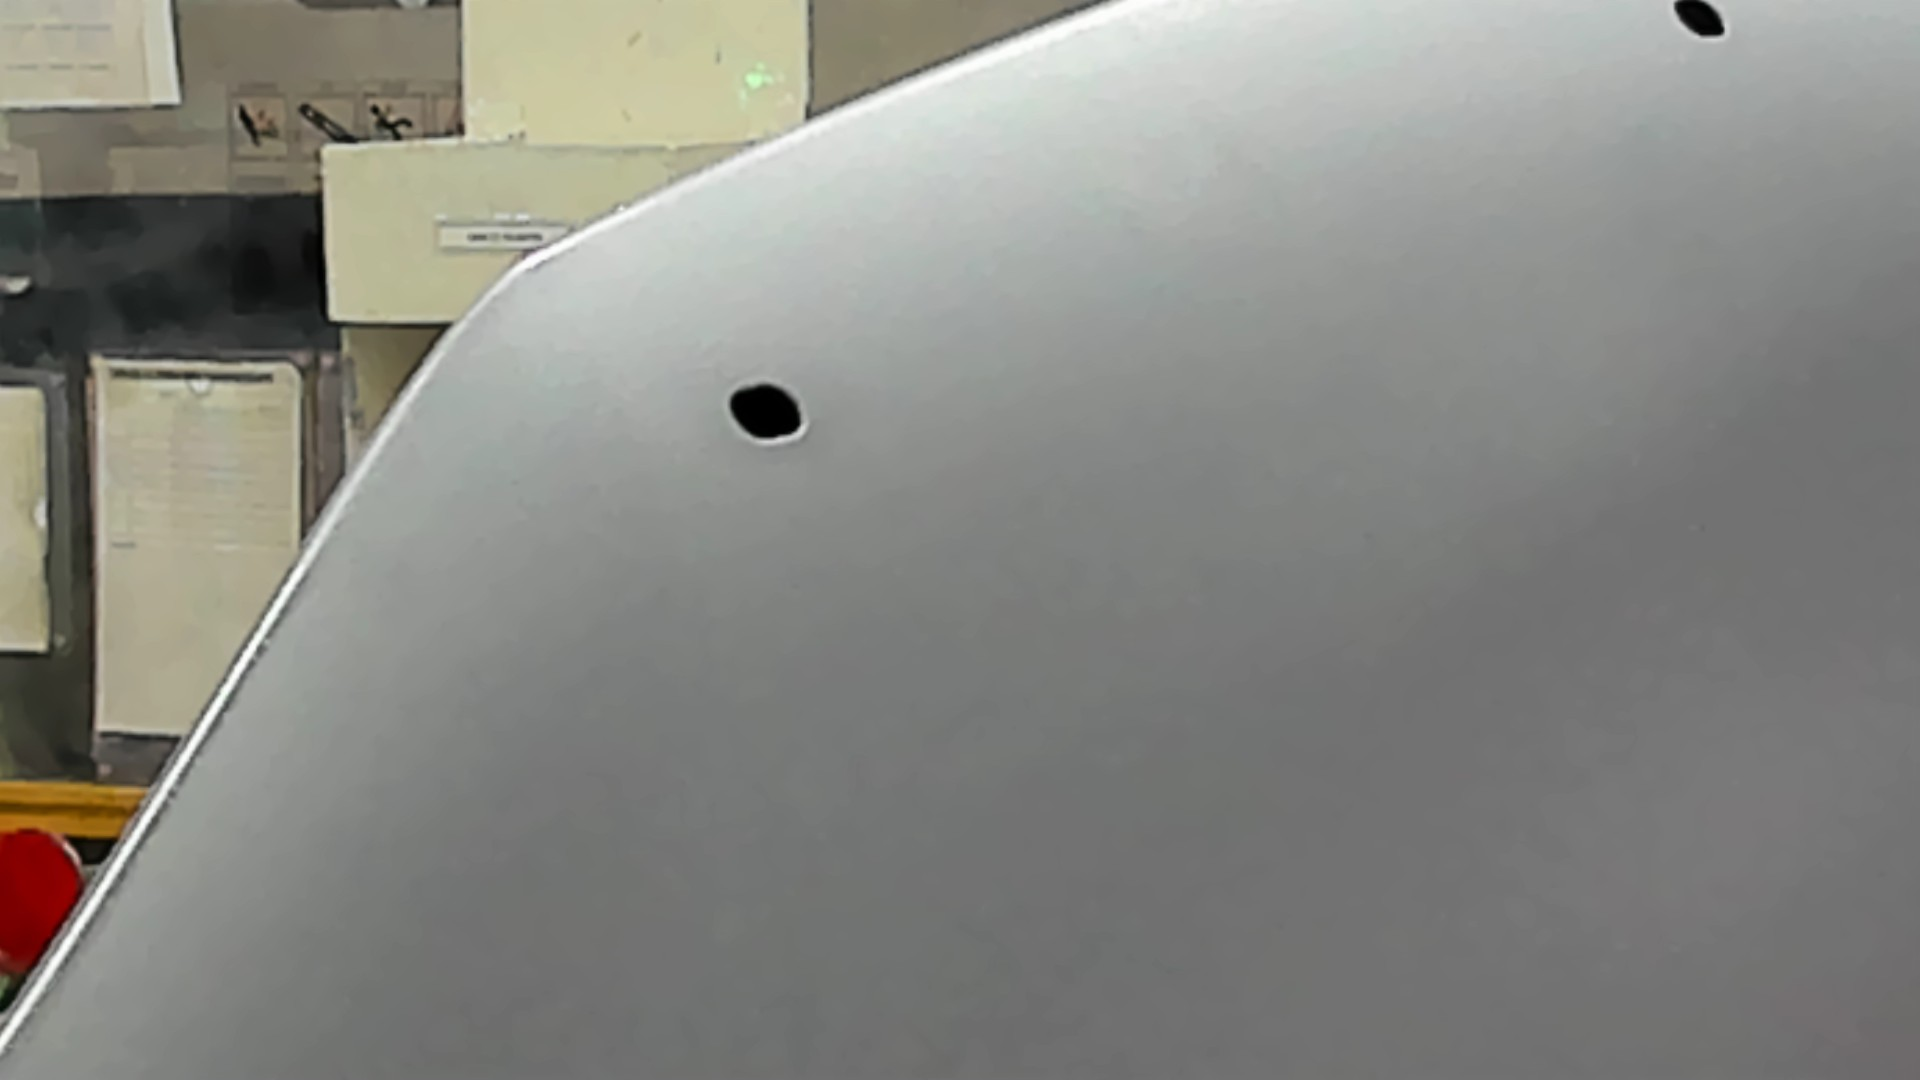chico: (717, 372, 814, 451), (1663, 1, 1741, 55)
